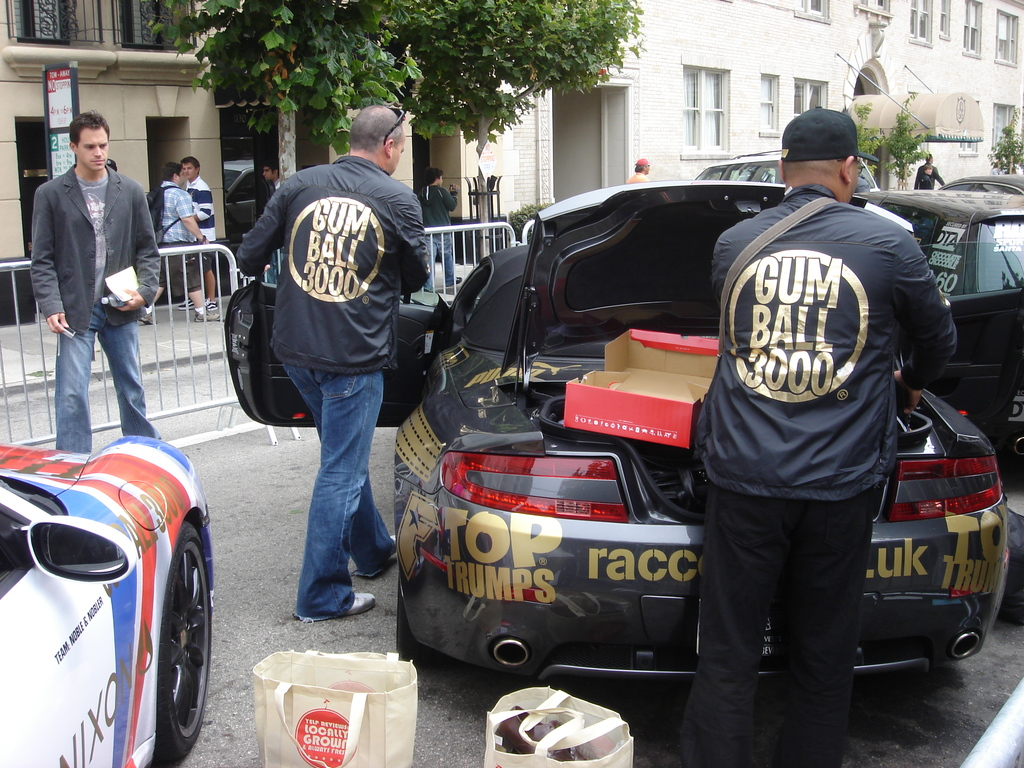Car: (395, 177, 1009, 687), (0, 437, 215, 767), (853, 186, 1023, 490)
